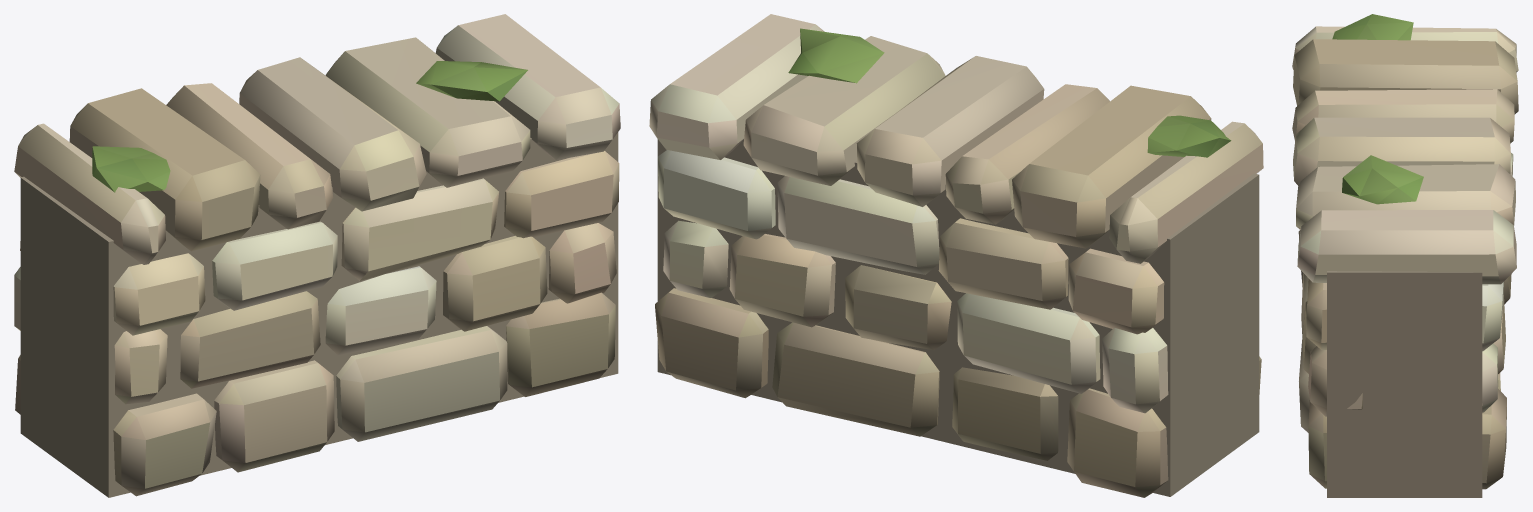
File: stone-wall.glb
The picture shows the model from 3 angles, left to right: view 1: azimuth 30°, elevation 25°; view 2: azimuth 150°, elevation 25°; view 3: azimuth 270°, elevation 25°; orthographic projection. The views are drawn at different scales.
Parts seen in each view (by area): view 1: stone-wall; view 2: stone-wall; view 3: stone-wall.
Part boxes in pixels (x1=…): stone-wall: x1=14, y1=14, x2=620, y2=497; stone-wall: x1=649, y1=14, x2=1263, y2=497; stone-wall: x1=1292, y1=14, x2=1518, y2=497.
Size of the model in its own units: 1 by 0.5939 by 0.4374.
